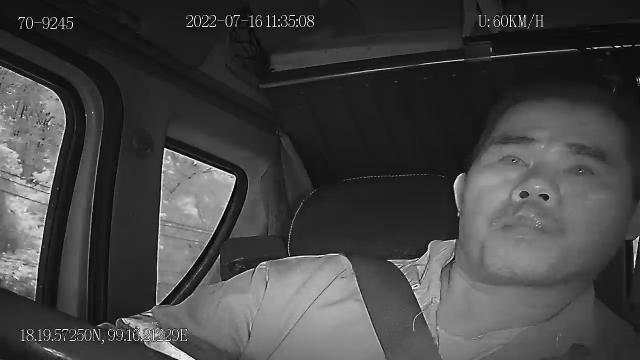SafeDriving: (556, 151, 608, 191), (488, 142, 536, 176)
Seatbelt: (342, 250, 444, 360)
